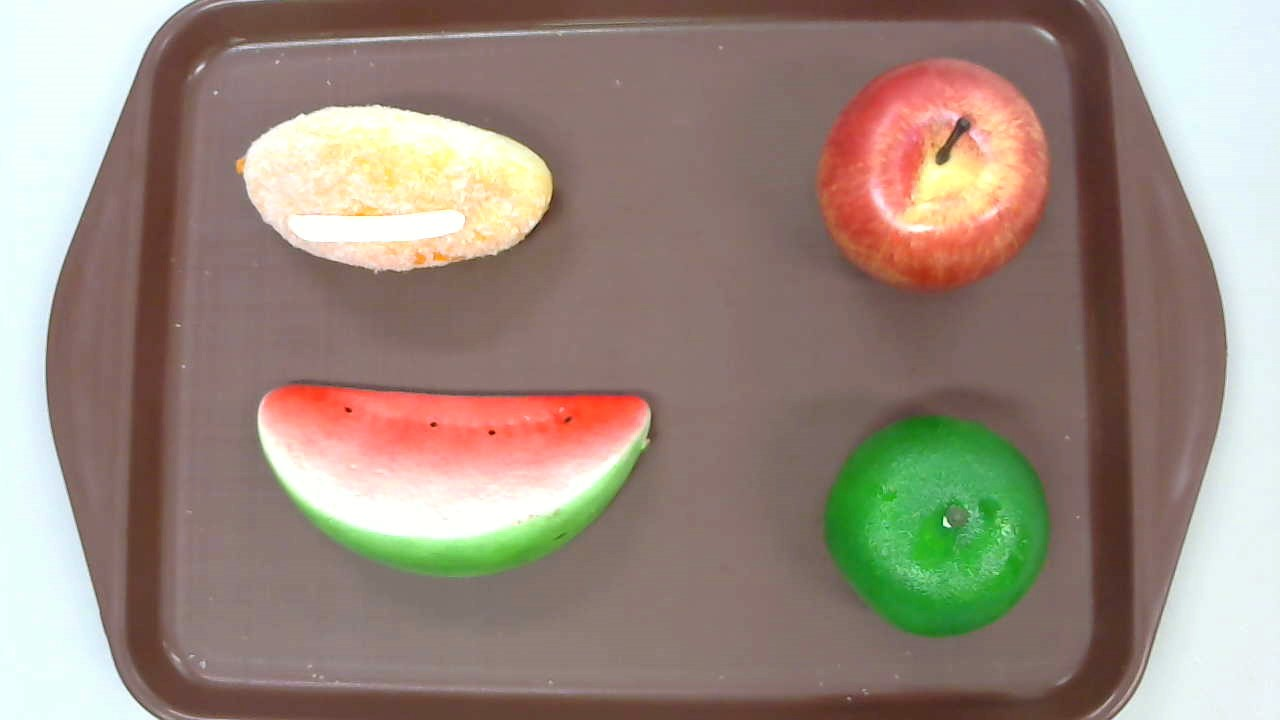coconut: (234, 104, 553, 272)
green orange: (826, 414, 1052, 635)
red apple: (815, 57, 1050, 293)
water melon: (257, 384, 653, 576)
